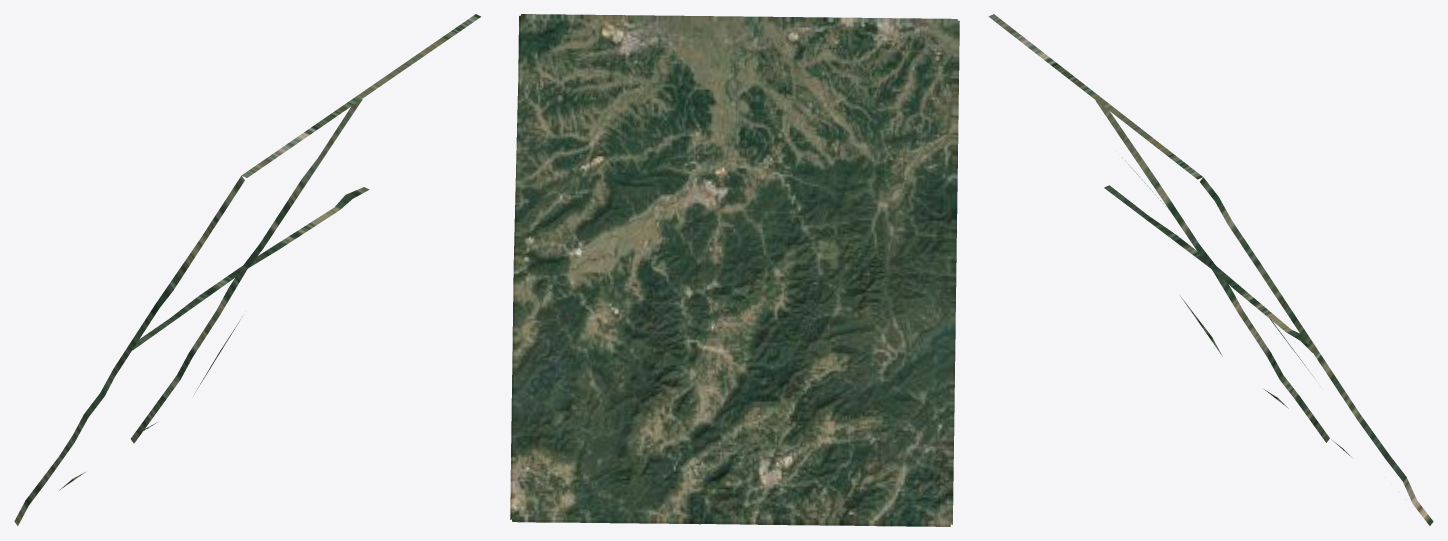
3 views of the same model, side by side, from view 1: azimuth 30°, elevation 25°; view 2: azimuth 150°, elevation 25°; view 3: azimuth 270°, elevation 25° (orthographic). The views are drawn at different scales.
Bounding box in the file's own units: 79124 × 68160 × 68466.
Materials: 1 (1 with a texture image).
